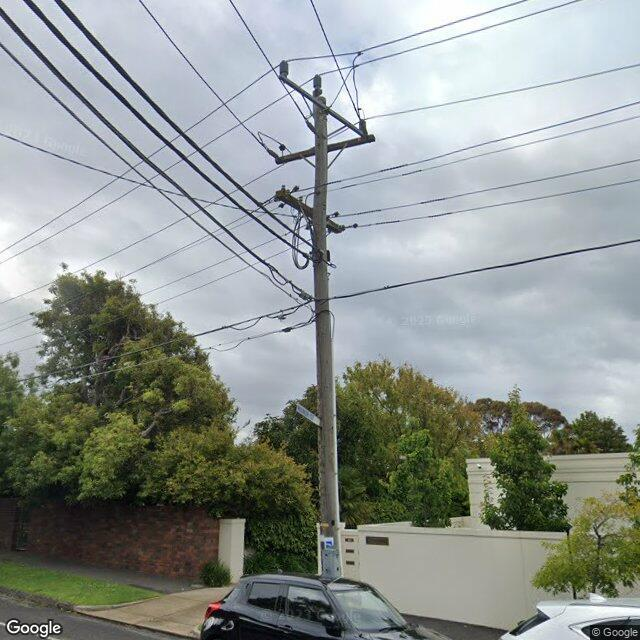HV-transmission: (278, 58, 368, 135)
crossarm: (279, 74, 364, 136), (275, 186, 358, 234), (274, 135, 376, 165)
timber-pole: (314, 96, 344, 578)
